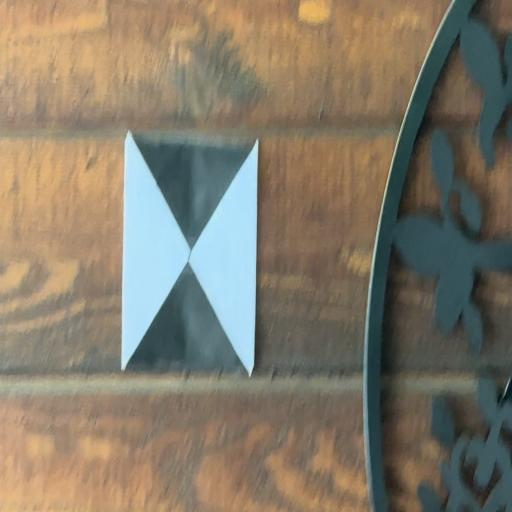target: (124, 135, 255, 372)
